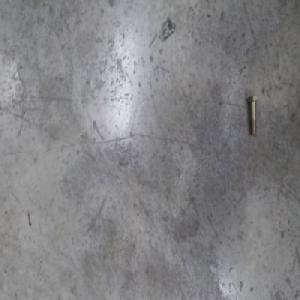Bolt: (248, 94, 258, 136)
